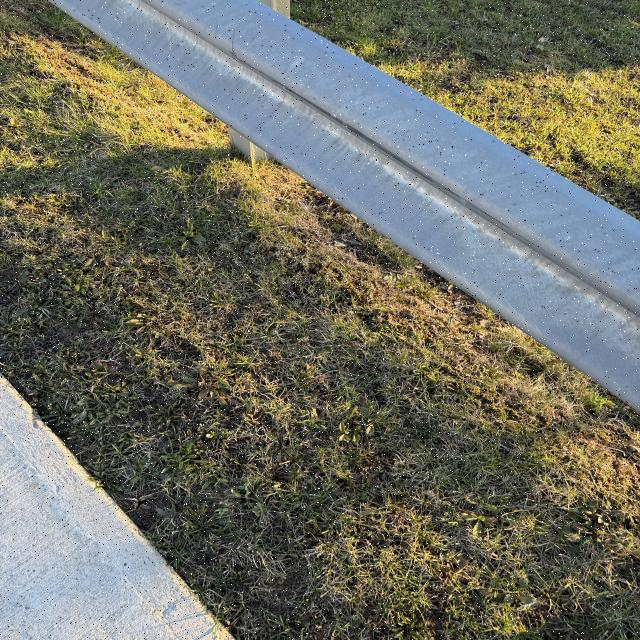Guard rail: (54, 16, 616, 384)
